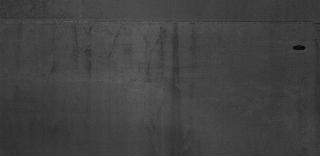punching hole: (290, 44, 308, 52)
silk spot: (51, 28, 195, 82), (241, 80, 309, 152), (125, 94, 205, 154), (5, 92, 72, 150)
welding line: (4, 16, 320, 26)
